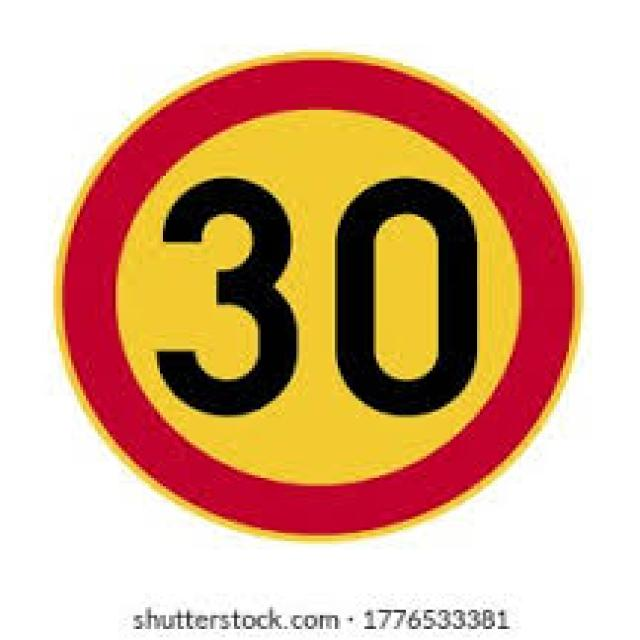Speed limit 30: (51, 48, 585, 542)
